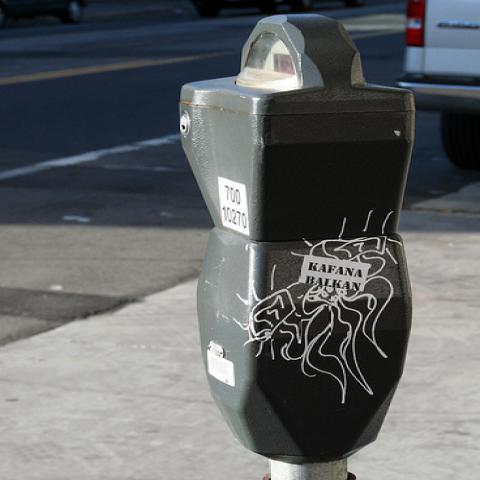car: (392, 1, 479, 169), (181, 1, 317, 23), (1, 1, 88, 28)
truck: (398, 0, 479, 172)
